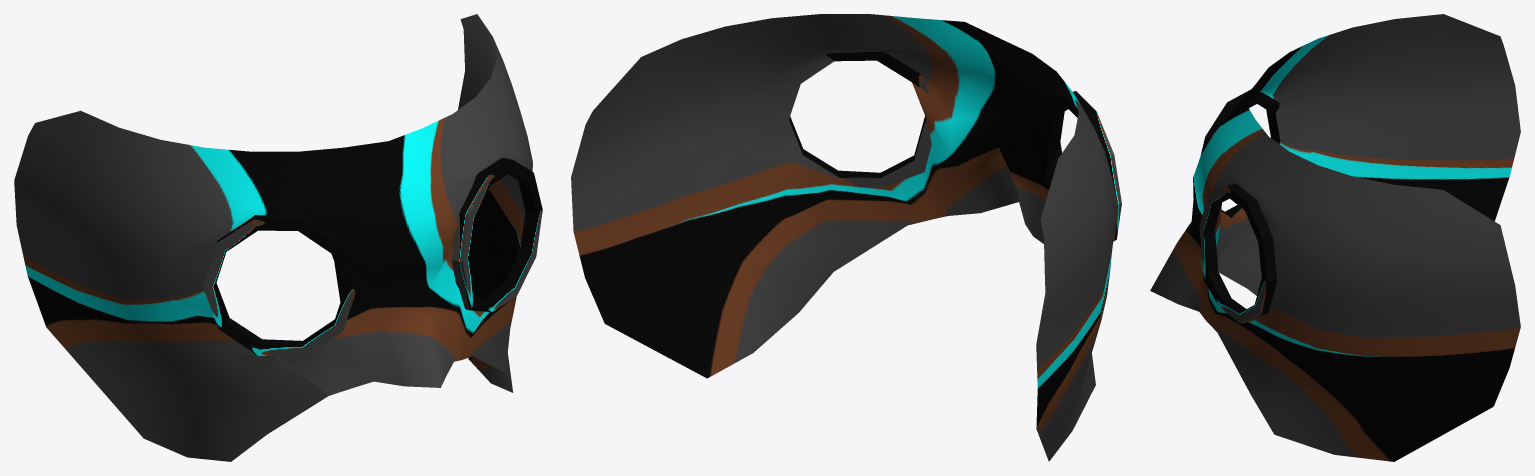
File: TruthMask_SecondAttempt.fbx
3 renders of one model, left to right at view 1: azimuth 30°, elevation 25°; view 2: azimuth 150°, elevation 25°; view 3: azimuth 270°, elevation 25°, orthographic. The views are drawn at different scales.
Parts seen in each view (by area): view 1: polySurface1; view 2: polySurface1; view 3: polySurface1.
Part boxes in pixels (box(x1,y1,x2,y2)): polySurface1: box(14, 14, 542, 461); polySurface1: box(571, 14, 1121, 461); polySurface1: box(1150, 14, 1520, 461).
Bounding box in the file's own units: 8.85 × 5.97 × 6.94.
